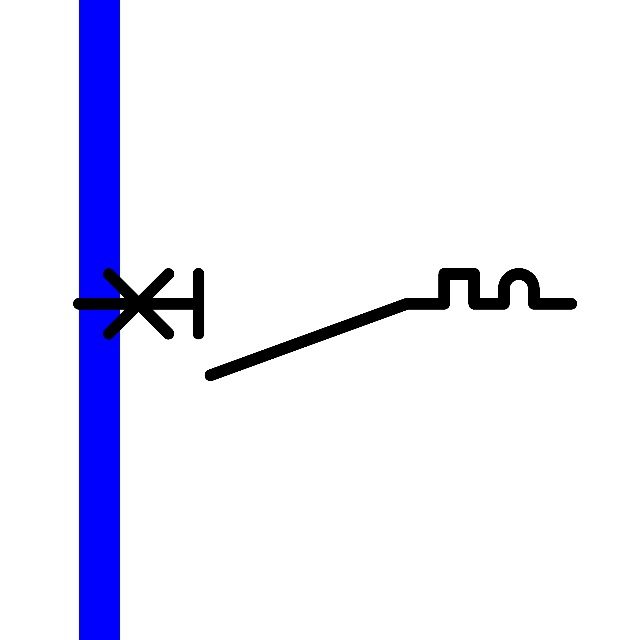interruptor_termomagnetico: (66, 261, 584, 388)
